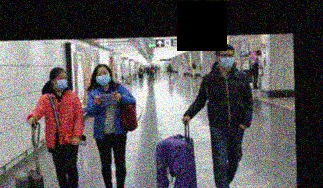with_mask: (218, 51, 235, 69), (95, 70, 112, 87), (53, 73, 68, 90), (256, 59, 259, 65), (168, 63, 171, 66), (147, 65, 150, 68), (146, 66, 149, 68), (139, 67, 141, 69), (154, 64, 156, 66), (157, 65, 159, 67)
without_mask: (193, 60, 196, 64)
